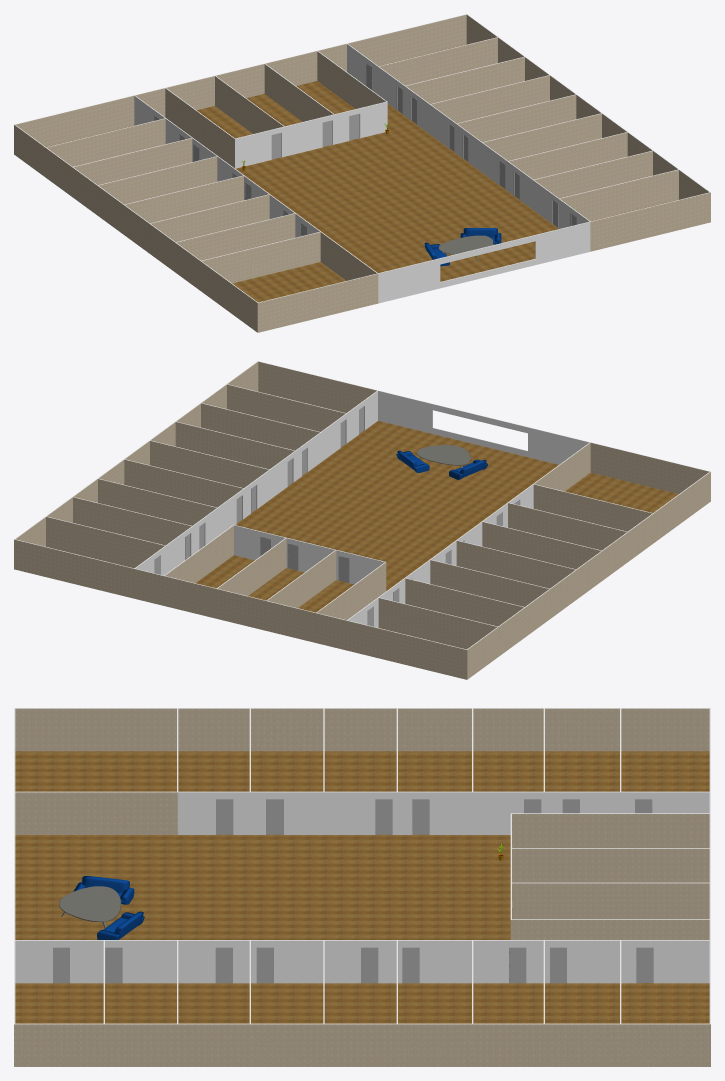
Rendered from hotel.glb.
3 views of the same model, one above another, from view 1: azimuth 30°, elevation 25°; view 2: azimuth 150°, elevation 25°; view 3: azimuth 270°, elevation 25° (orthographic). The views are drawn at different scales.
Visible parts, largest first — view 1: wall_1_4, room_106_515, ground_1; view 2: wall_1_4, room_106_515, ground_1; view 3: room_106_515, wall_1_4, ground_1.
Part boxes in pixels (left/top/right/bottom): wall_1_4: left=14, top=14, right=710, bottom=332; room_106_515: left=46, top=44, right=678, bottom=302; ground_1: left=14, top=14, right=710, bottom=303; wall_1_4: left=14, top=361, right=710, bottom=679; room_106_515: left=46, top=391, right=678, bottom=649; ground_1: left=14, top=361, right=710, bottom=649; room_106_515: left=15, top=751, right=709, bottom=1023; wall_1_4: left=14, top=708, right=710, bottom=1066; ground_1: left=14, top=708, right=710, bottom=1024.
Size of the model in its own units: 3967 by 250 by 3697.
Materials: 3 (3 with a texture image).
